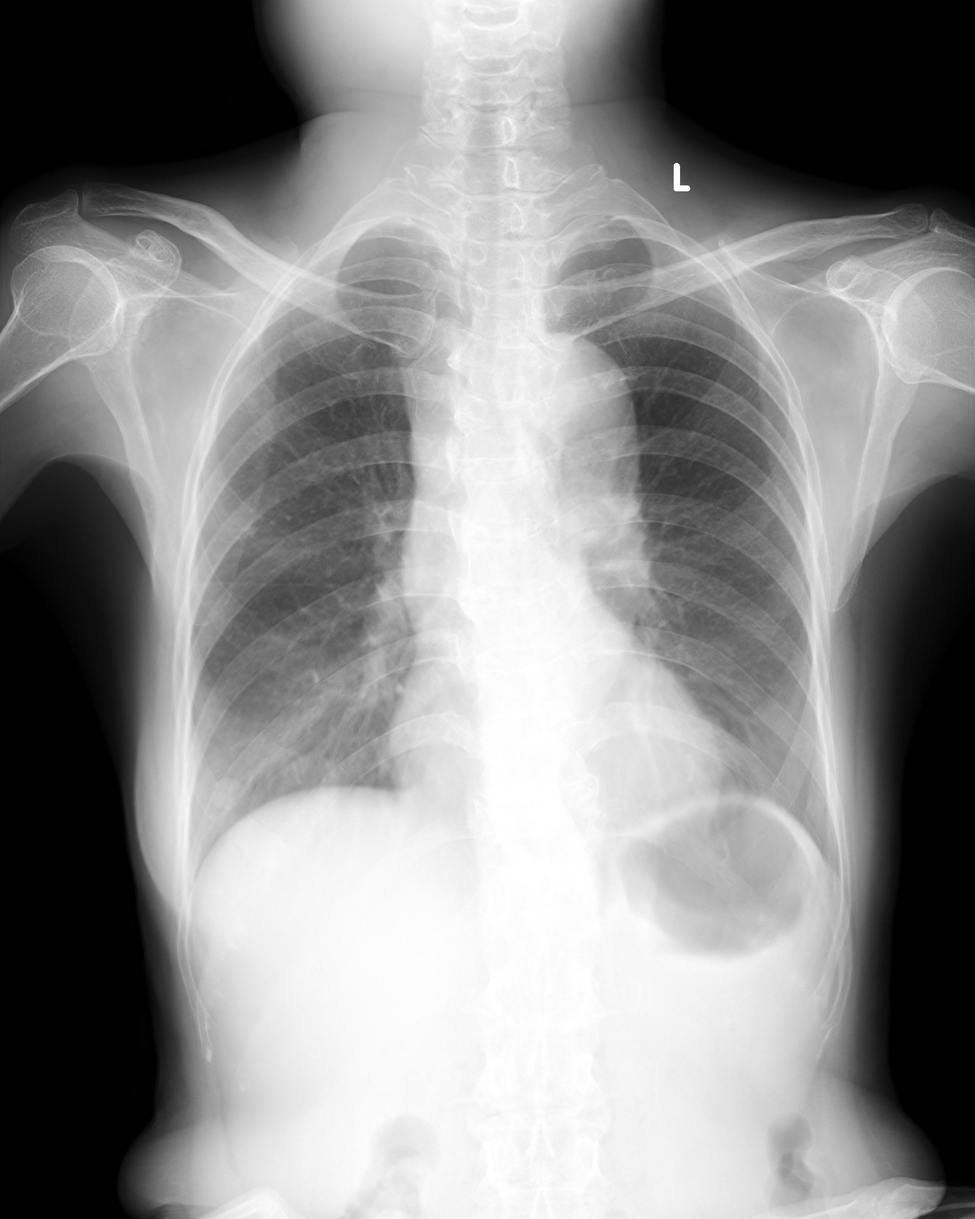Aortic enlargement: (518, 332, 641, 535)
